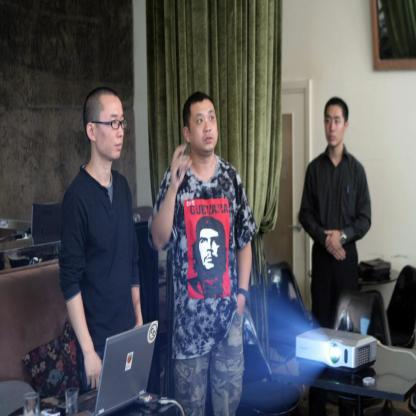board: (76, 313, 153, 411)
